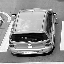mobil: (7, 5, 56, 56)
